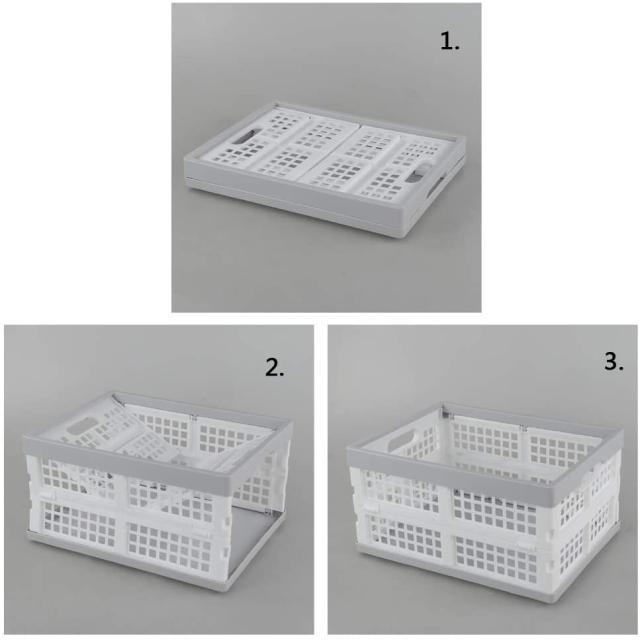basket: (330, 392, 634, 612), (4, 378, 300, 600), (176, 87, 470, 248)
